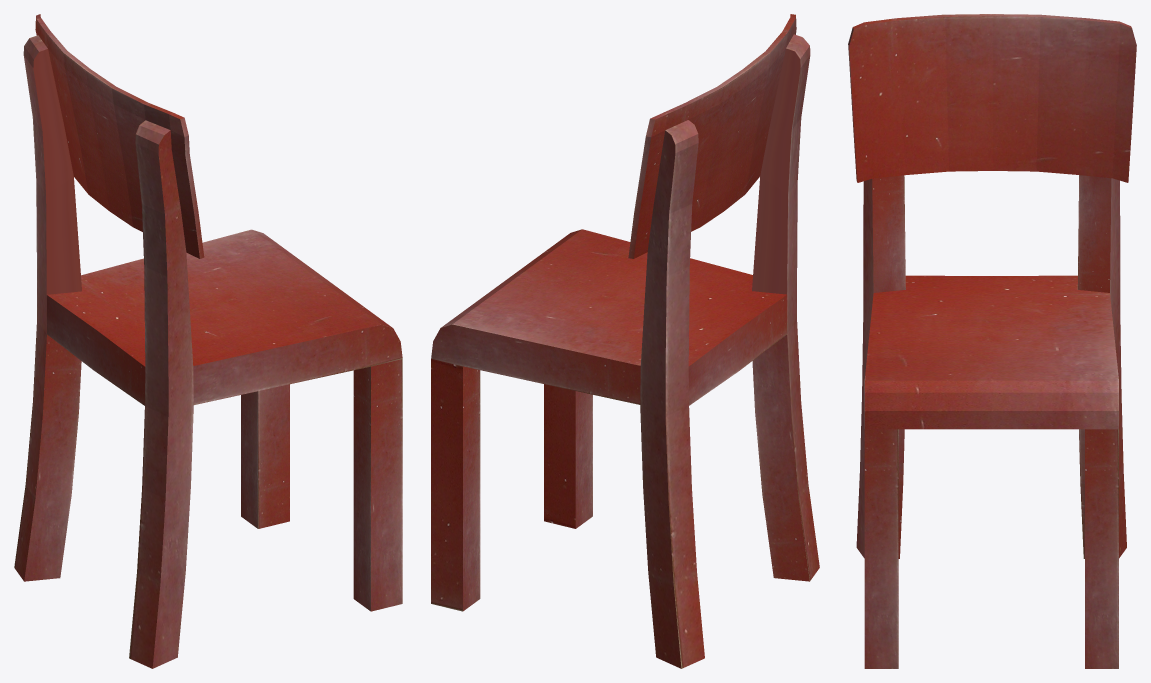
The model's file is zidle.glb.
3 views of the same model, side by side, from view 1: azimuth 30°, elevation 25°; view 2: azimuth 150°, elevation 25°; view 3: azimuth 270°, elevation 25° (orthographic). The views are drawn at different scales.
Parts seen in each view (by area): view 1: zidle_cervena.001; view 2: zidle_cervena.001; view 3: zidle_cervena.001.
Boxes of the visible parts, x1,y1,x2,y2 form: zidle_cervena.001: (14, 14, 402, 668); zidle_cervena.001: (431, 14, 819, 668); zidle_cervena.001: (848, 14, 1136, 668).
Size of the model in its own units: 0.4568 by 0.9143 by 0.4473.
1 material, 1 textured.
